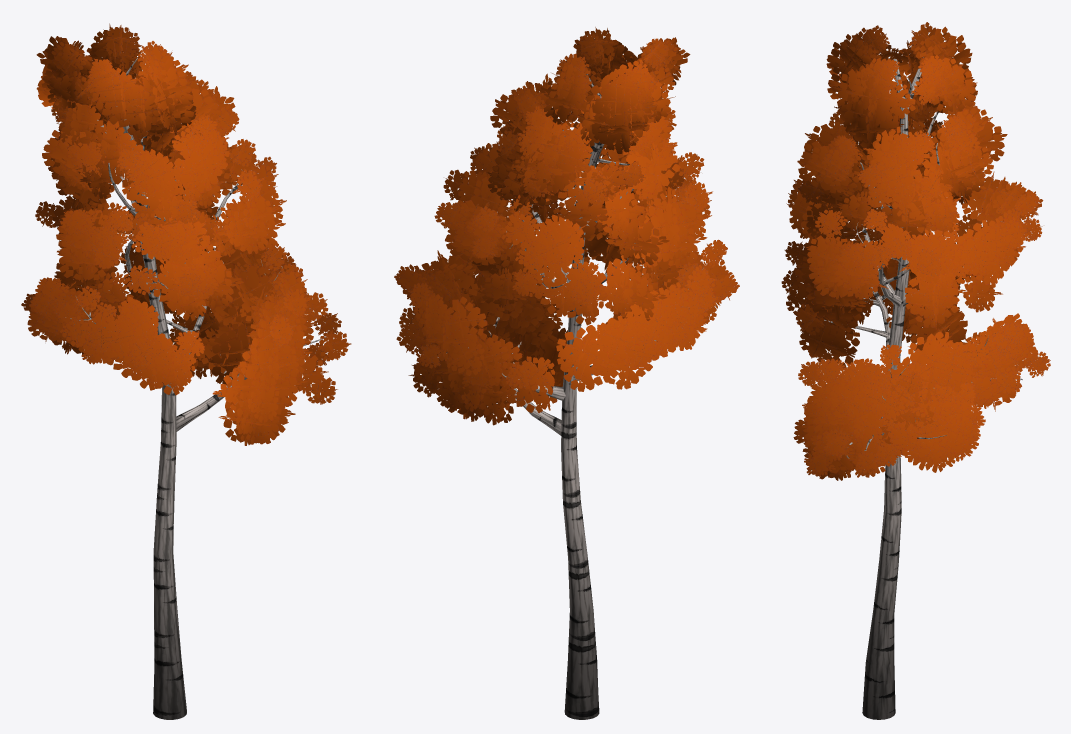
File: Birch_2.glb
3 renders of one model, left to right at view 1: azimuth 30°, elevation 25°; view 2: azimuth 150°, elevation 25°; view 3: azimuth 270°, elevation 25°, orthographic. The views are drawn at different scales.
Visible parts, largest first — view 1: Birch_2; view 2: Birch_2; view 3: Birch_2.
Part boxes in pixels (box(x1,y1,x2,y2)): Birch_2: box(21, 23, 351, 719); Birch_2: box(394, 27, 739, 719); Birch_2: box(781, 22, 1050, 719).
Size of the model in its own units: 6.66 by 13.53 by 5.25.
2 materials, 2 textured.
